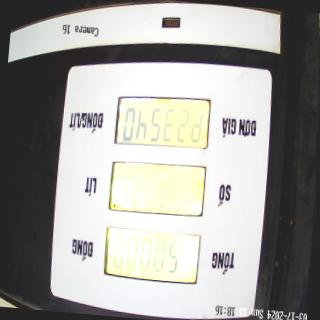screen: (99, 88, 215, 292)
